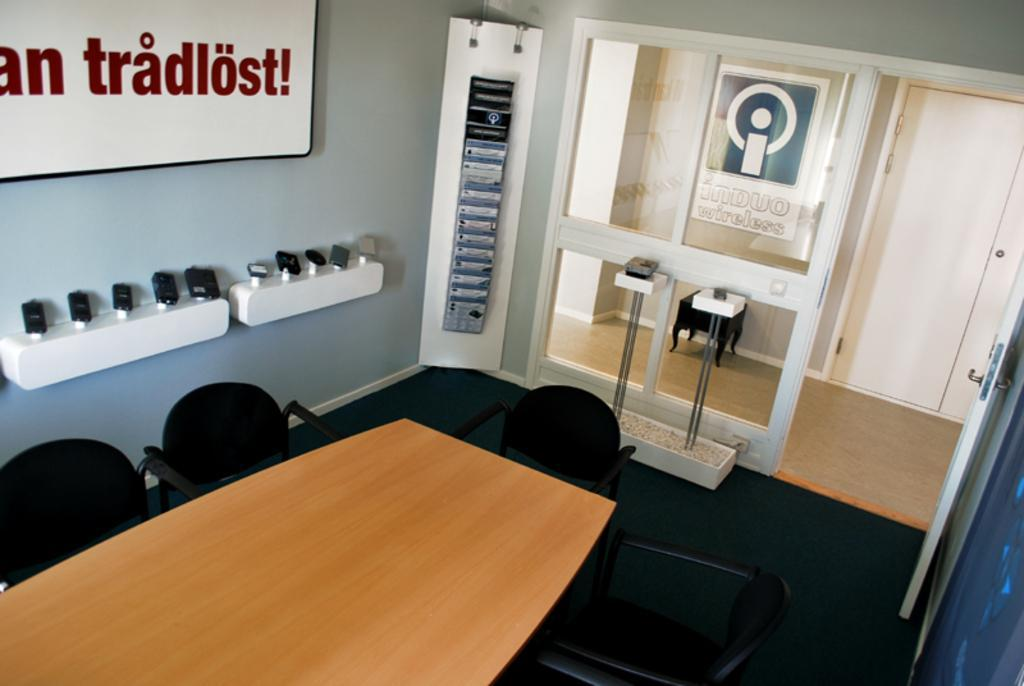door: (878, 83, 962, 408)
handle: (989, 372, 1016, 400), (962, 361, 982, 390), (989, 239, 1010, 263)
